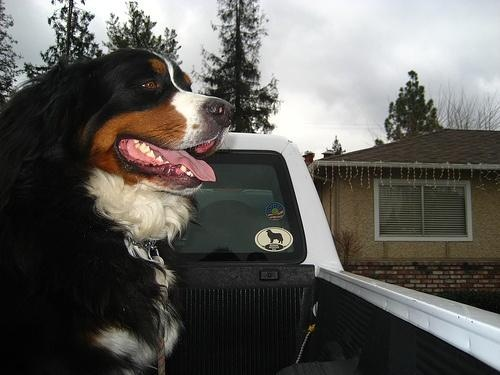dog: (1, 46, 235, 372)
